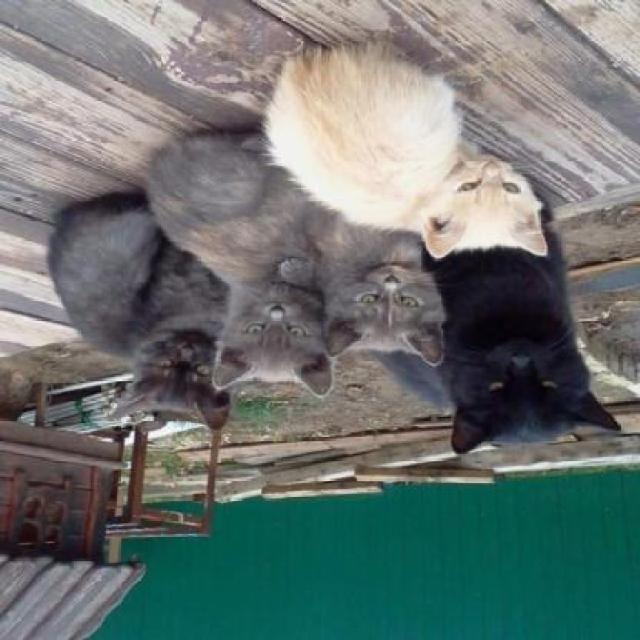cat: (273, 34, 572, 254), (382, 211, 626, 460), (186, 166, 437, 360), (29, 208, 232, 430), (200, 262, 332, 400)
